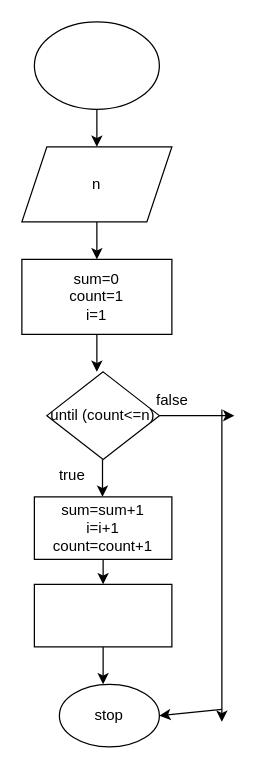
This 266x769 diagram has some shape labels left out. The centre of each missing label's shape, as x and y in pixels:
"print sum" belongs at [102,615].
"start" belongs at [96,65].
